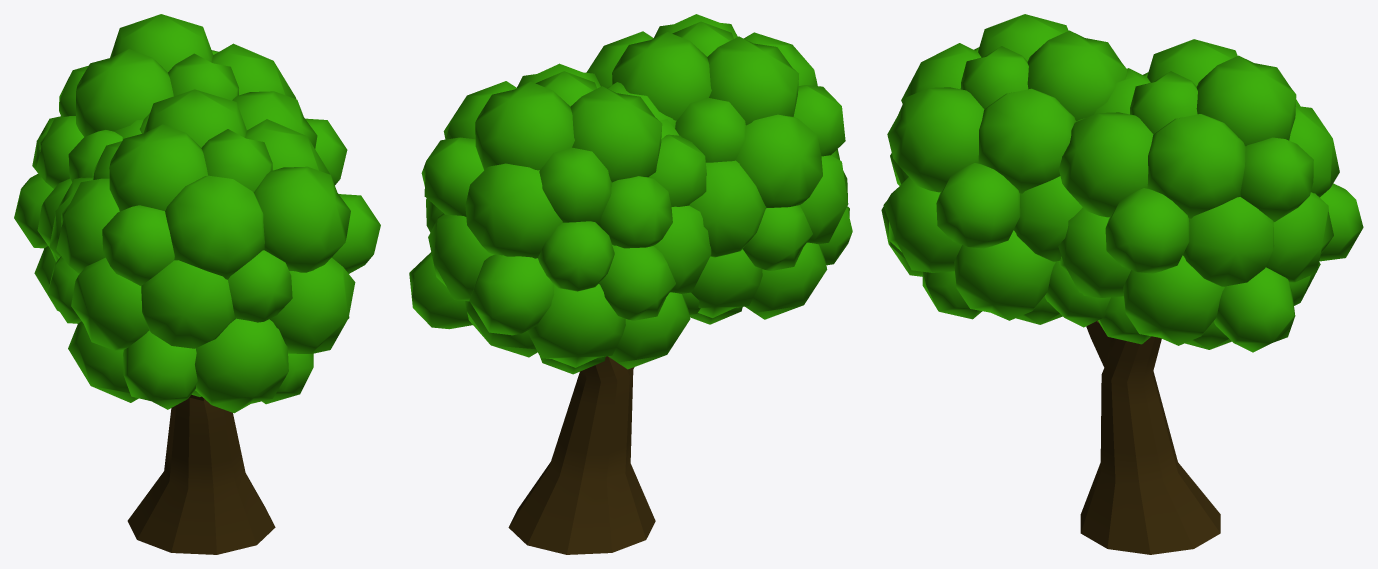
The model's file is Tree2.fbx.
3 renders of one model, left to right at view 1: azimuth 30°, elevation 25°; view 2: azimuth 150°, elevation 25°; view 3: azimuth 270°, elevation 25°, orthographic.
Parts seen in each view (by area): view 1: Tree; view 2: Tree; view 3: Tree.
Part boxes in pixels (x1,y1,x2,y2): Tree: (14,14,380,554); Tree: (409,14,852,554); Tree: (881,14,1363,554).
Bounding box in the file's own units: 5.74 × 7.86 × 7.45.
